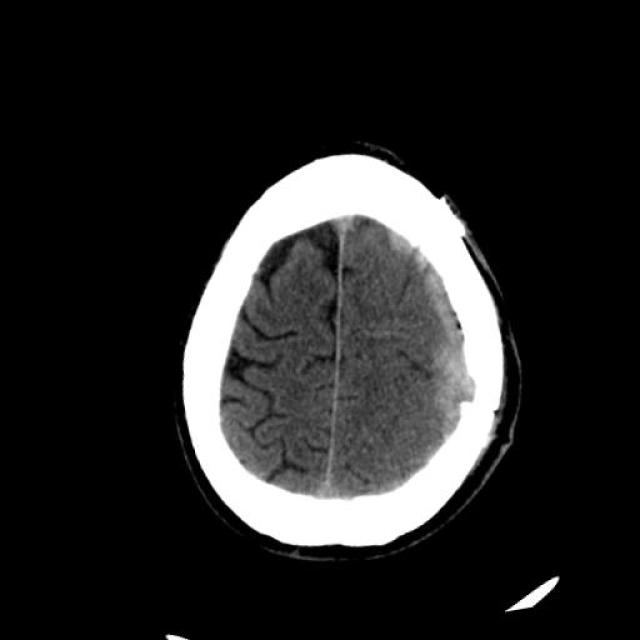Subdural: (360, 208, 528, 503)
